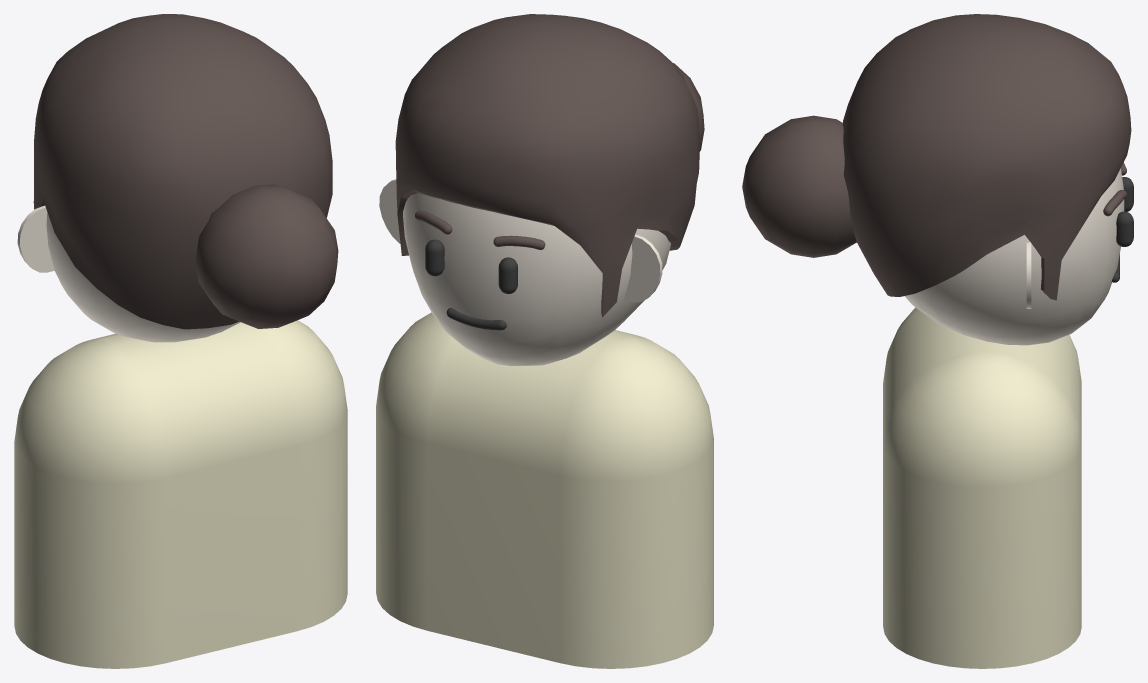
File: character_jeongbin.glb
The picture shows the model from 3 angles, left to right: view 1: azimuth 30°, elevation 25°; view 2: azimuth 150°, elevation 25°; view 3: azimuth 270°, elevation 25°; orthographic projection. The views are drawn at different scales.
Visible parts, largest first — view 1: jb; view 2: jb; view 3: jb.
Part boxes in pixels (bbox=[...]): jb: bbox=[14, 14, 347, 668]; jb: bbox=[376, 14, 713, 668]; jb: bbox=[742, 14, 1133, 668].
Size of the model in its own units: 2.49 by 4.47 by 2.81.
